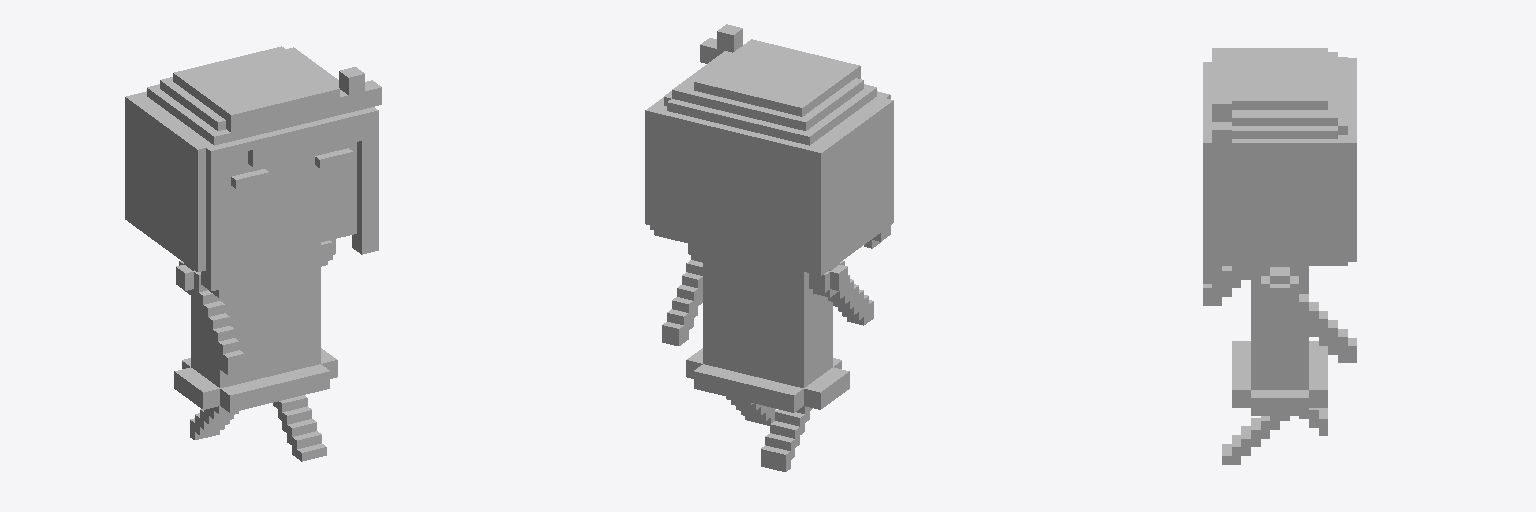
The model's file is 2- Girl.obj.
3 views of the same model, side by side, from view 1: azimuth 30°, elevation 25°; view 2: azimuth 150°, elevation 25°; view 3: azimuth 270°, elevation 25° (orthographic).
Parts seen in each view (by area): view 1: character; view 2: character; view 3: character.
Part boxes in pixels (bbox=[...]): character: bbox=[125, 46, 381, 461]; character: bbox=[645, 24, 893, 471]; character: bbox=[1203, 48, 1356, 464].
Size of the model in its own units: 2.2 by 4.3 by 1.6.